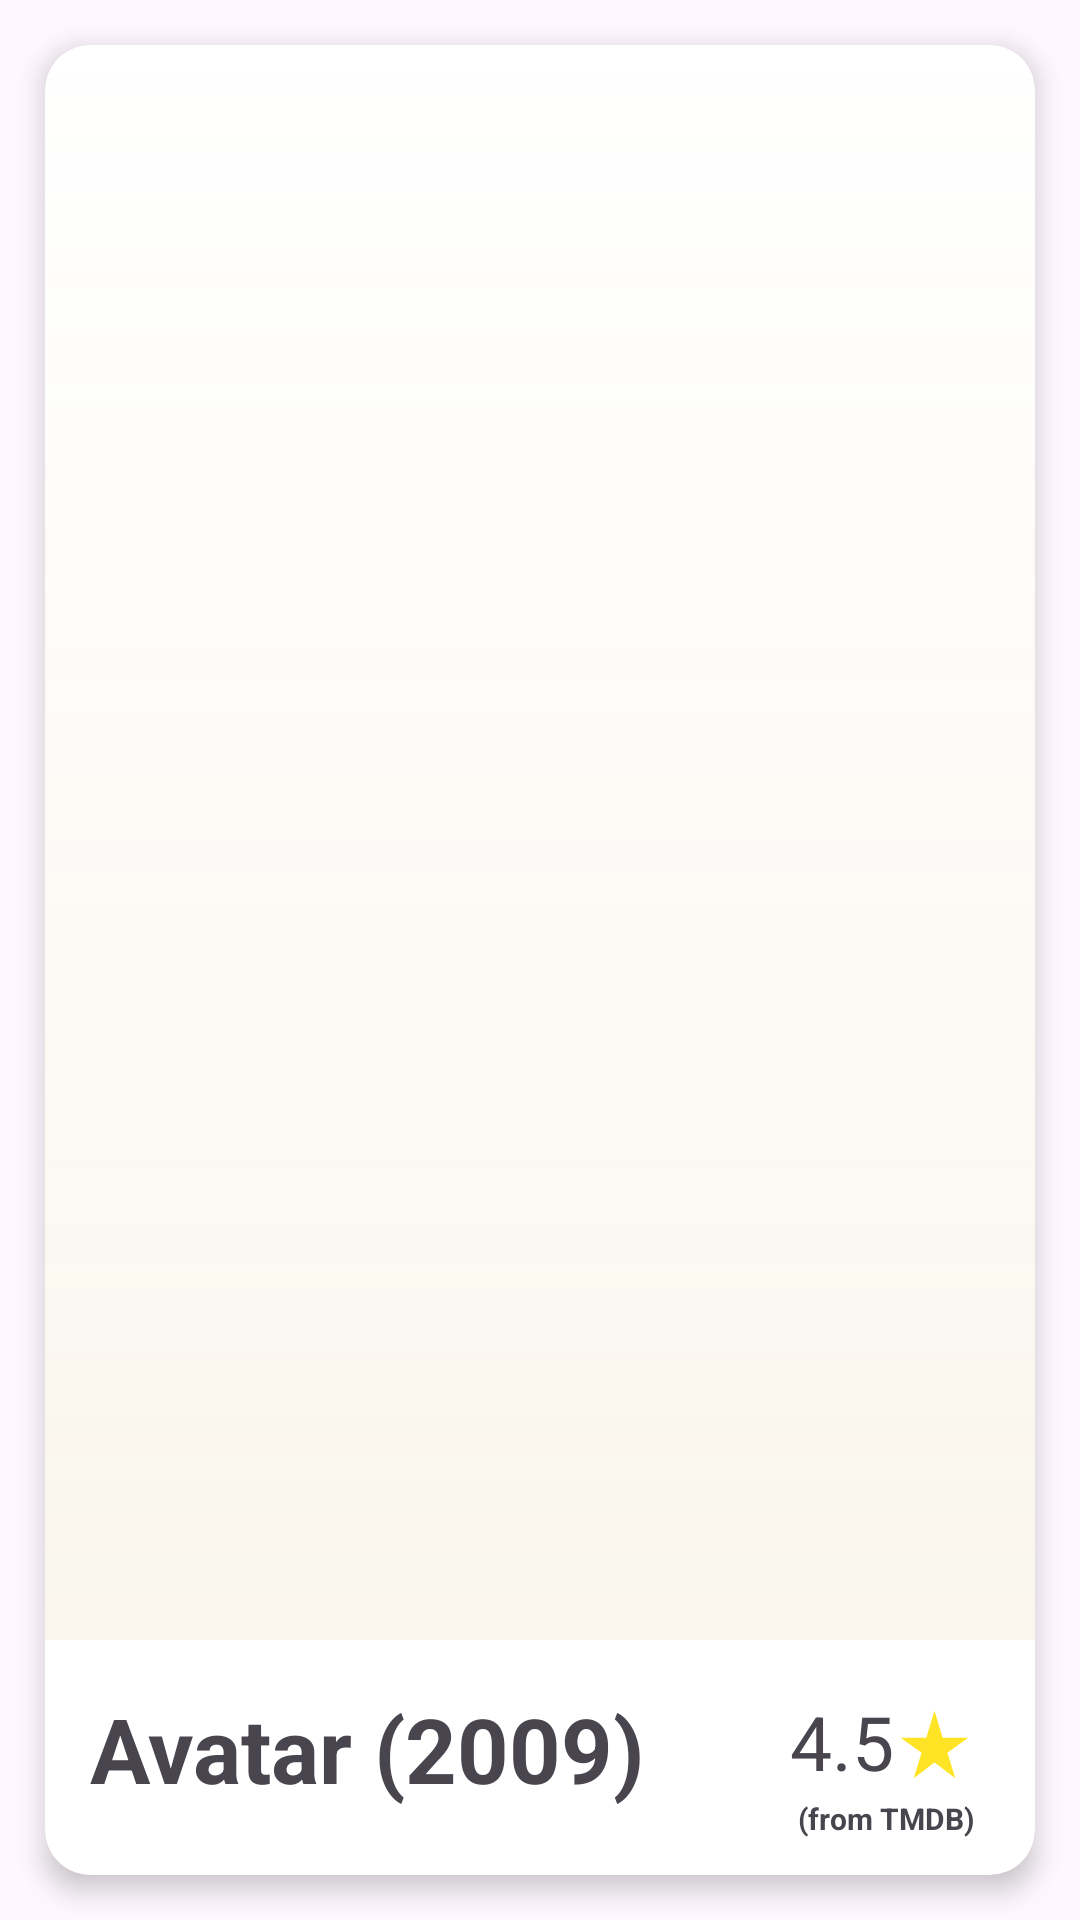

Named icons in this screenshot (1080x1920) and their centers, point (x, y):
star rate: point (934, 1744)
